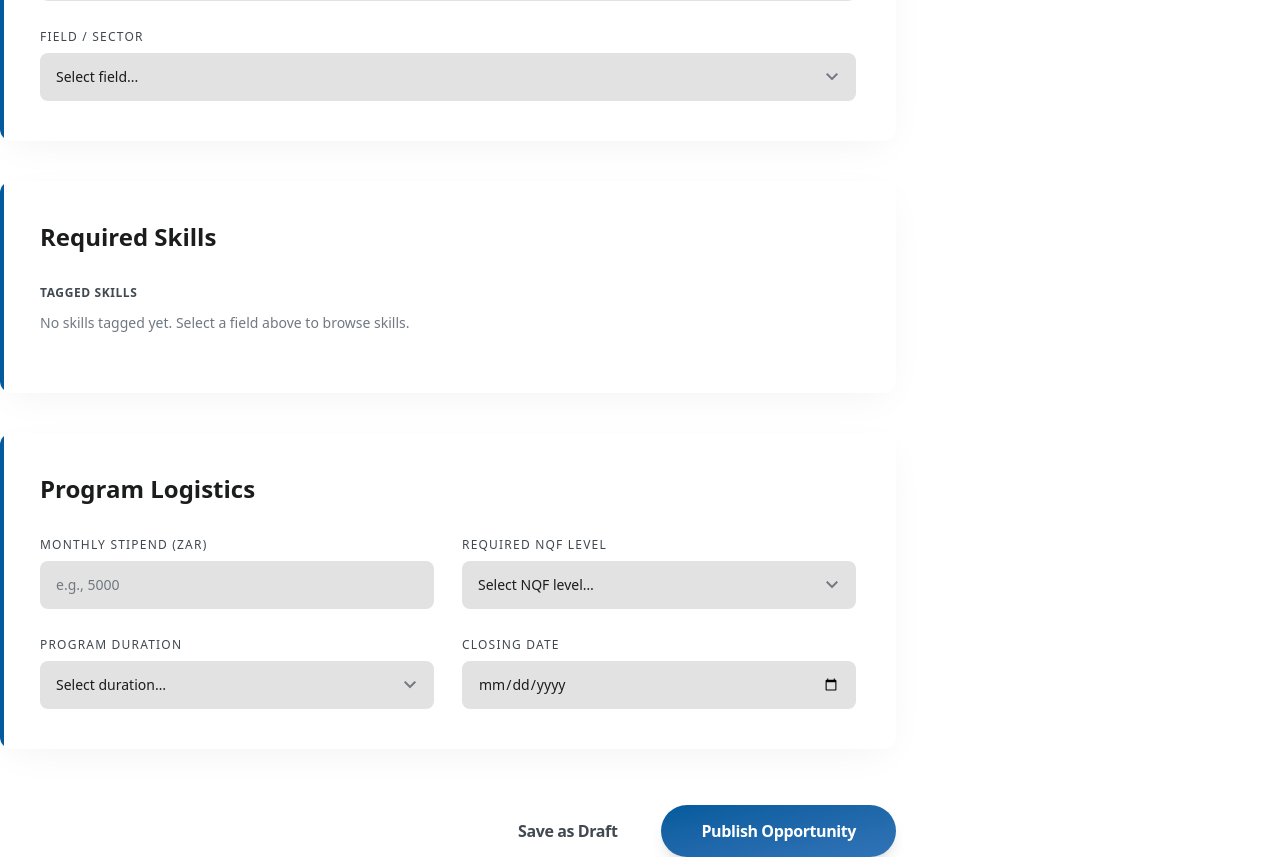
OpportunityForm › shows validation error if title is empty on publish
(page scrolled)
Click the button "Publish Opportunity" at (779, 831), box x1=662 y1=805 x2=896 y2=856
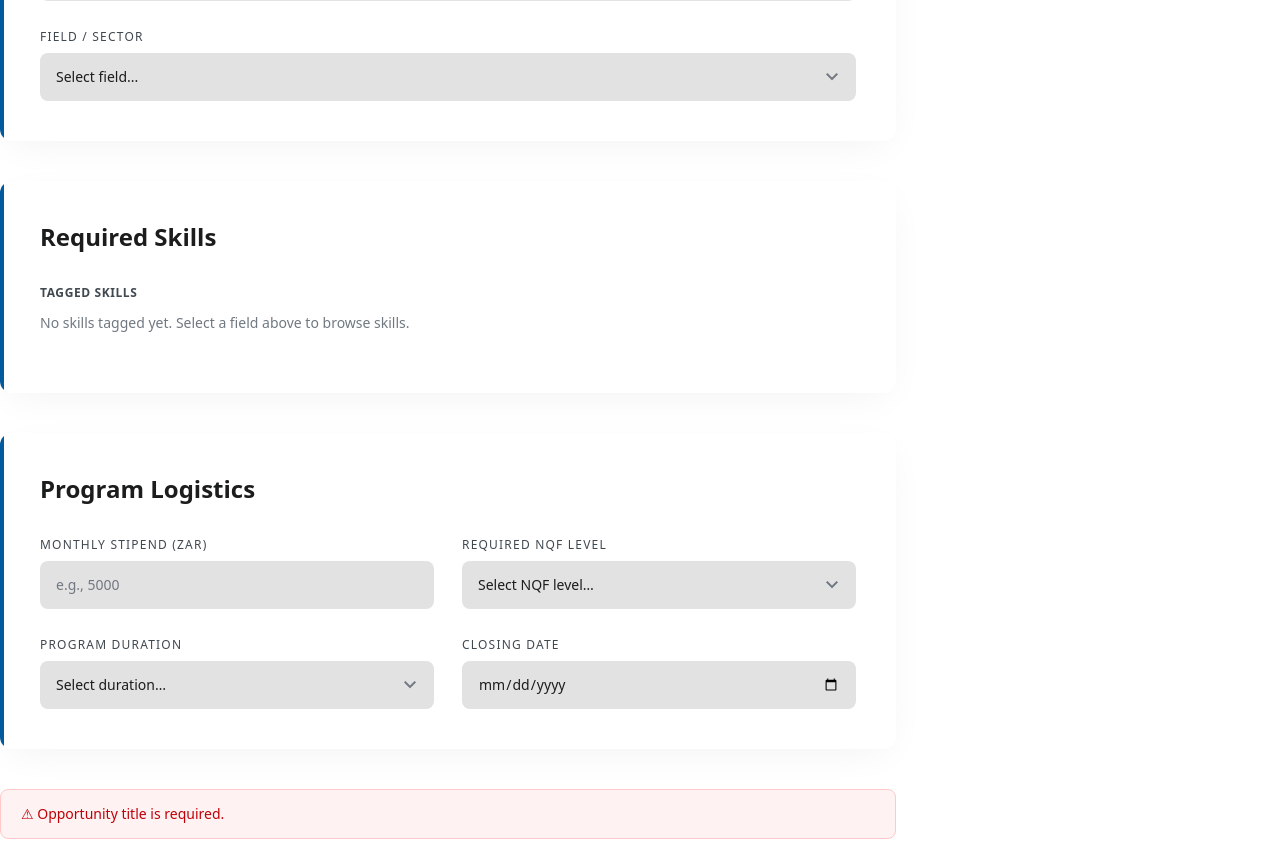
expect the text "⚠ Opportunity title is required." is shown: met, box x1=0 y1=789 x2=896 y2=839
